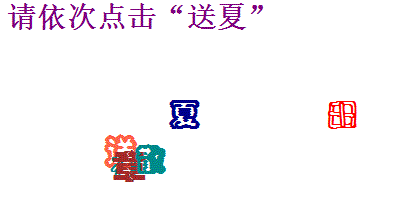text: (113, 149, 147, 183), (104, 135, 139, 167), (168, 98, 201, 131), (134, 143, 168, 175), (326, 100, 358, 131)
